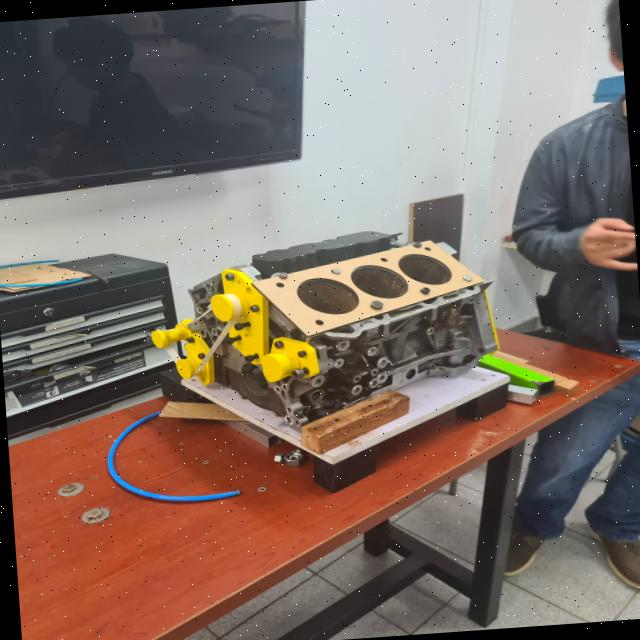tor_v1: (255, 241, 482, 336)
